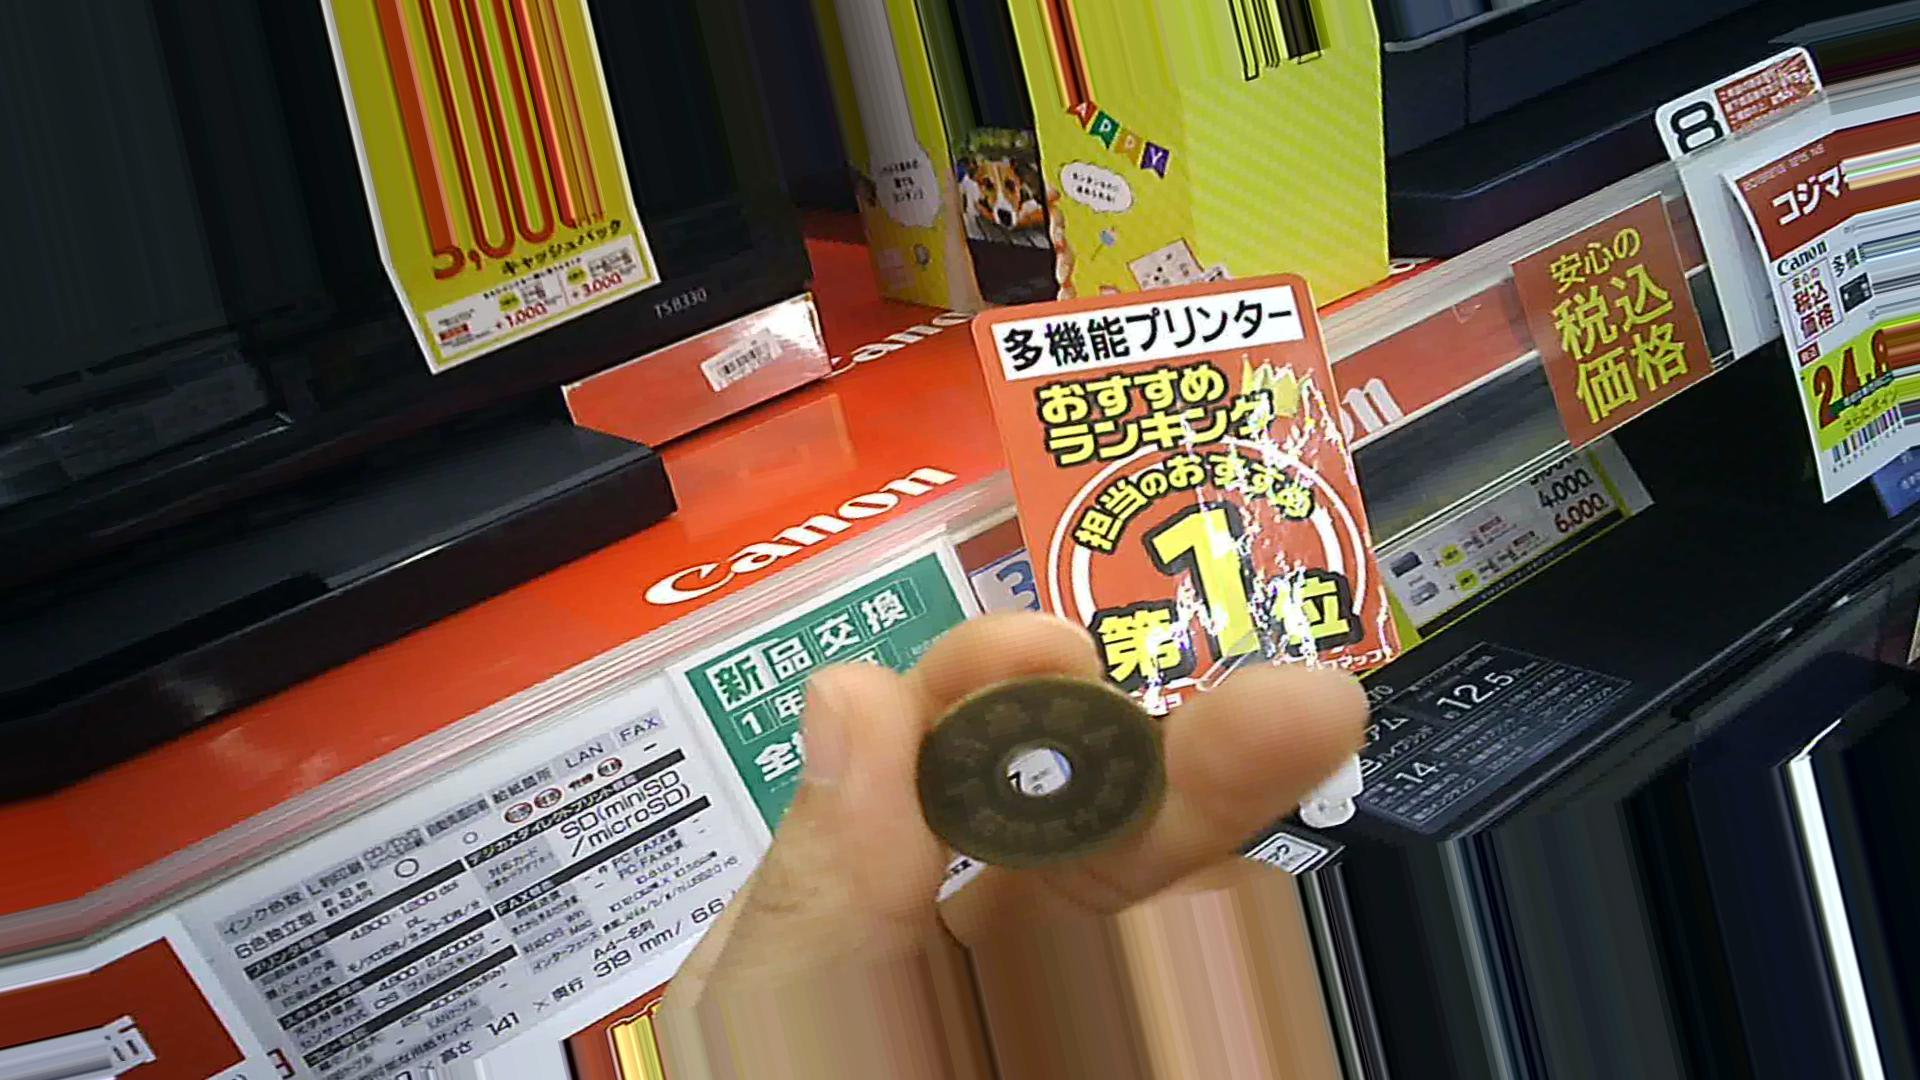5 Yen: (911, 688, 1188, 881)
